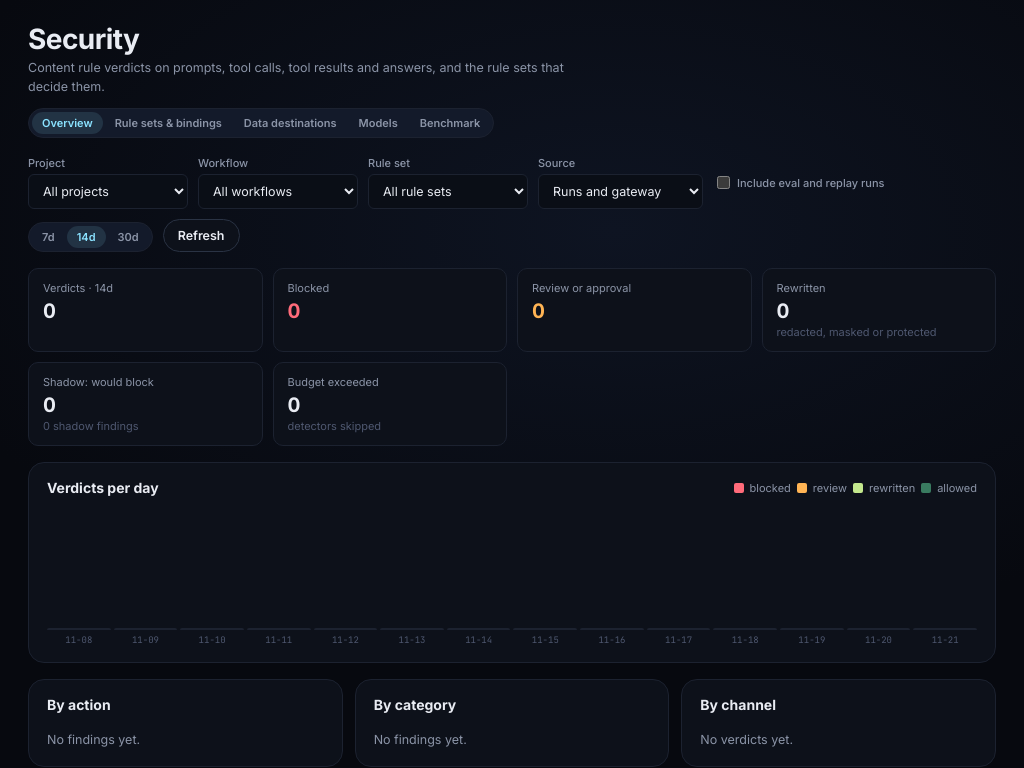
Security → Models › is a tab of the Security page
Step 1. Click the tab "Models" → (378, 123), box [349, 112, 408, 134]
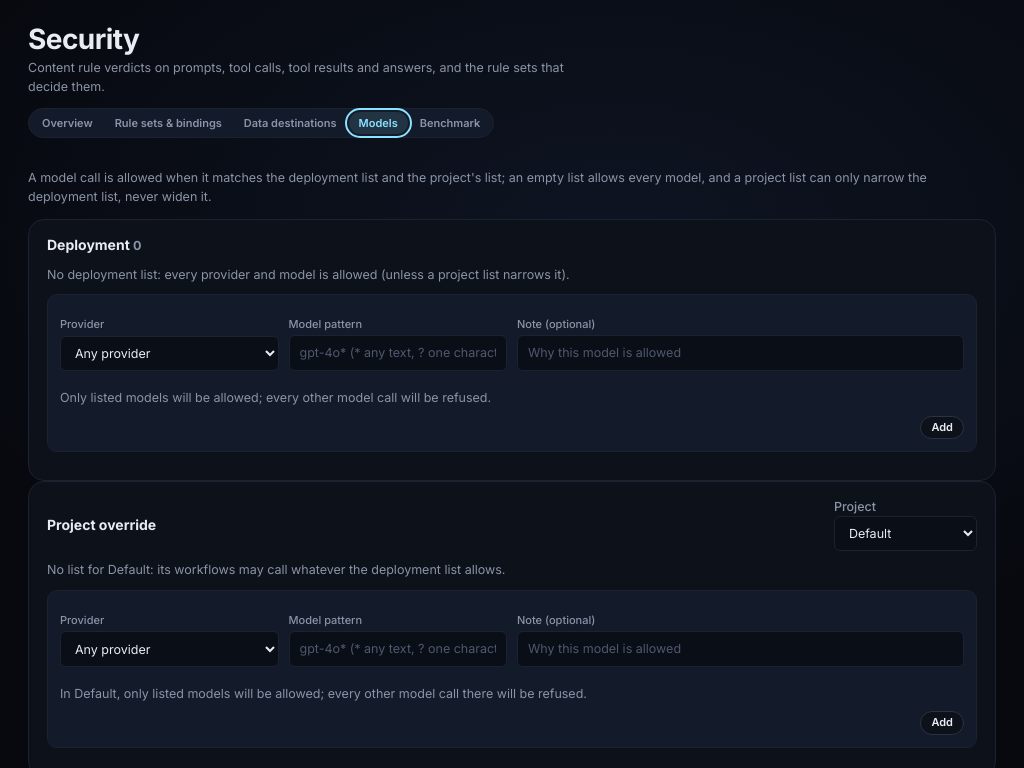
Expected: the text "No deployment list: every provider and model is allowed" is shown, [47, 266, 570, 282]
